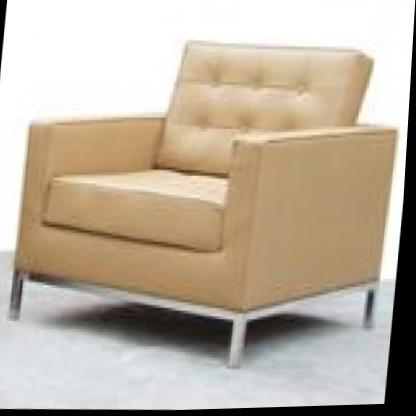Sofa: (3, 25, 414, 382)
